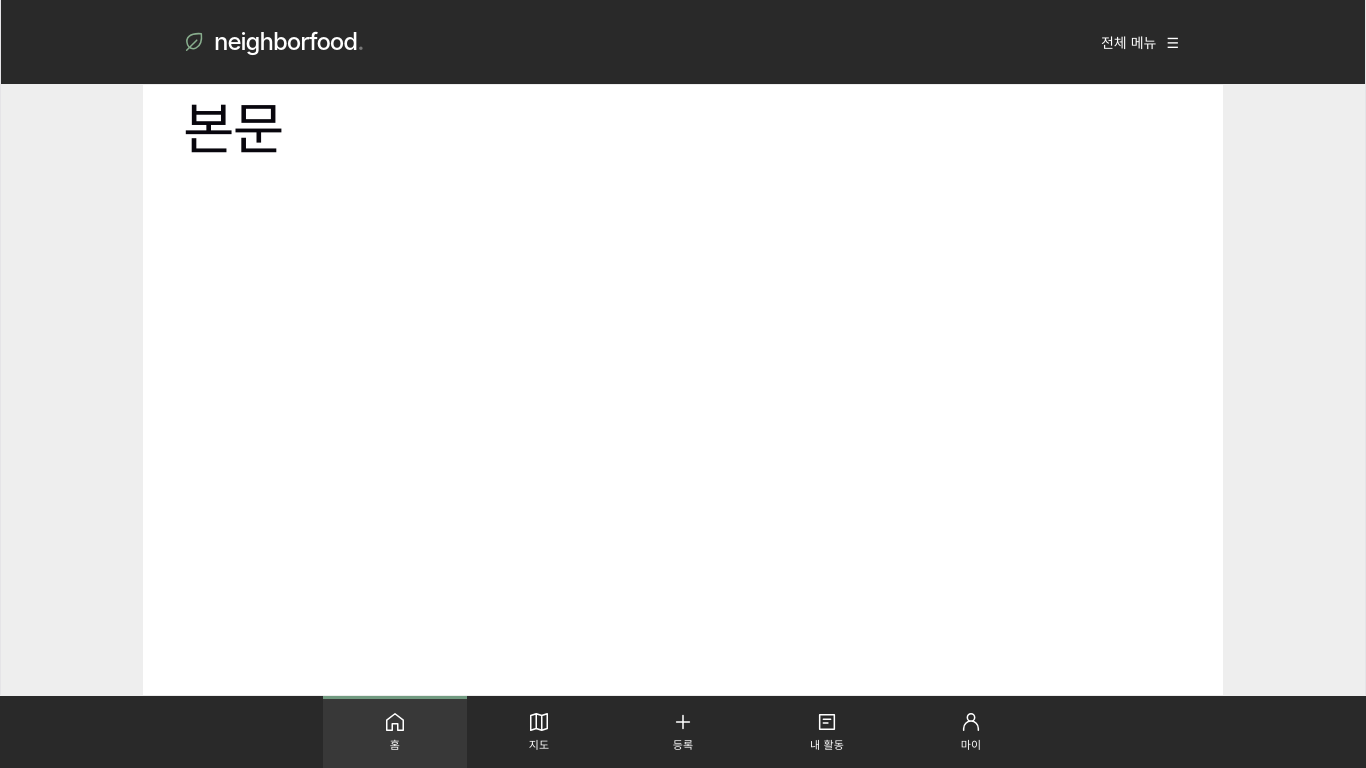
Test: 공통 메뉴 › 메뉴를 열고 포커스를 가둔 뒤 Escape로 닫고 원래 위치로 돌려준다
Step 1. Click the button with aria-label "전체 메뉴 열기" → (1140, 42), box [1097,20,1183,64]
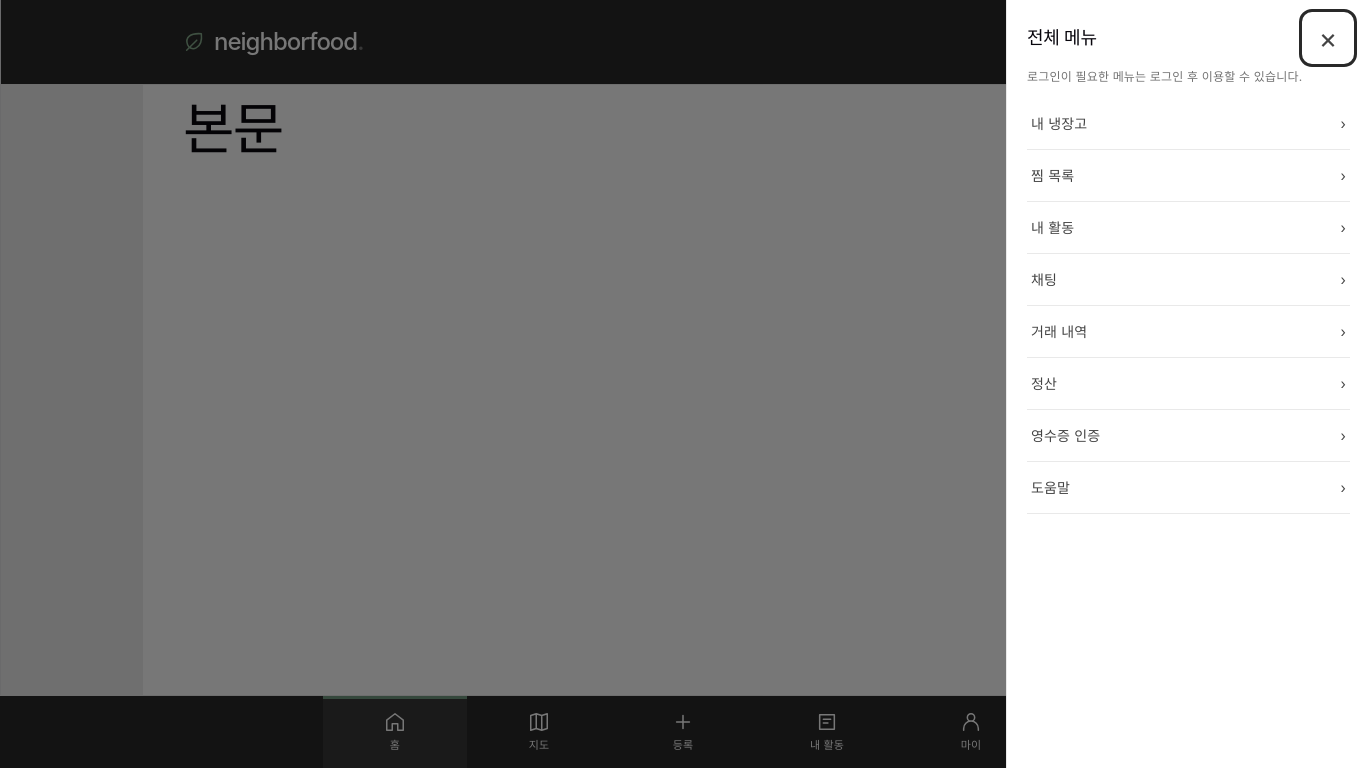
Expected: the button with aria-label "전체 메뉴 열기" is expanded, [1097,20,1183,64]
Step 2. Press Shift+Tab
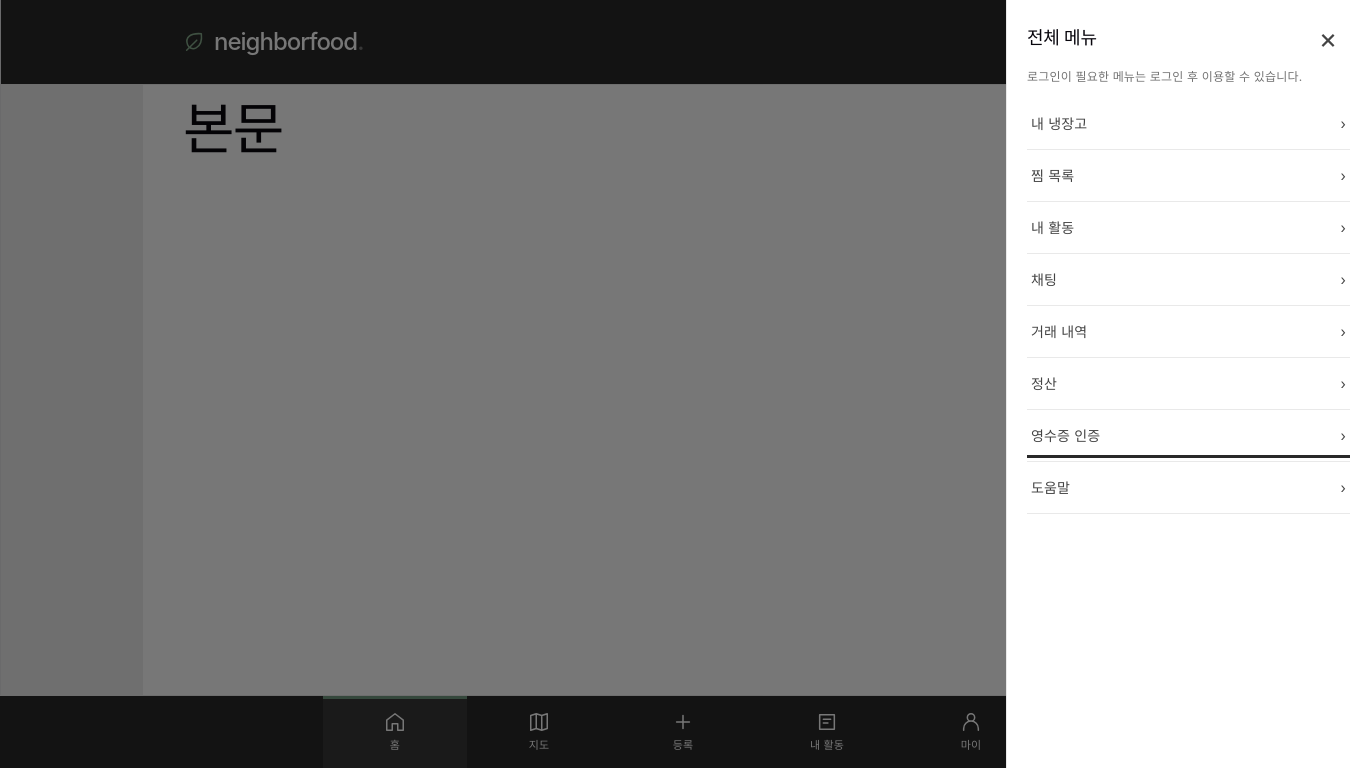
Step 3. Press Tab
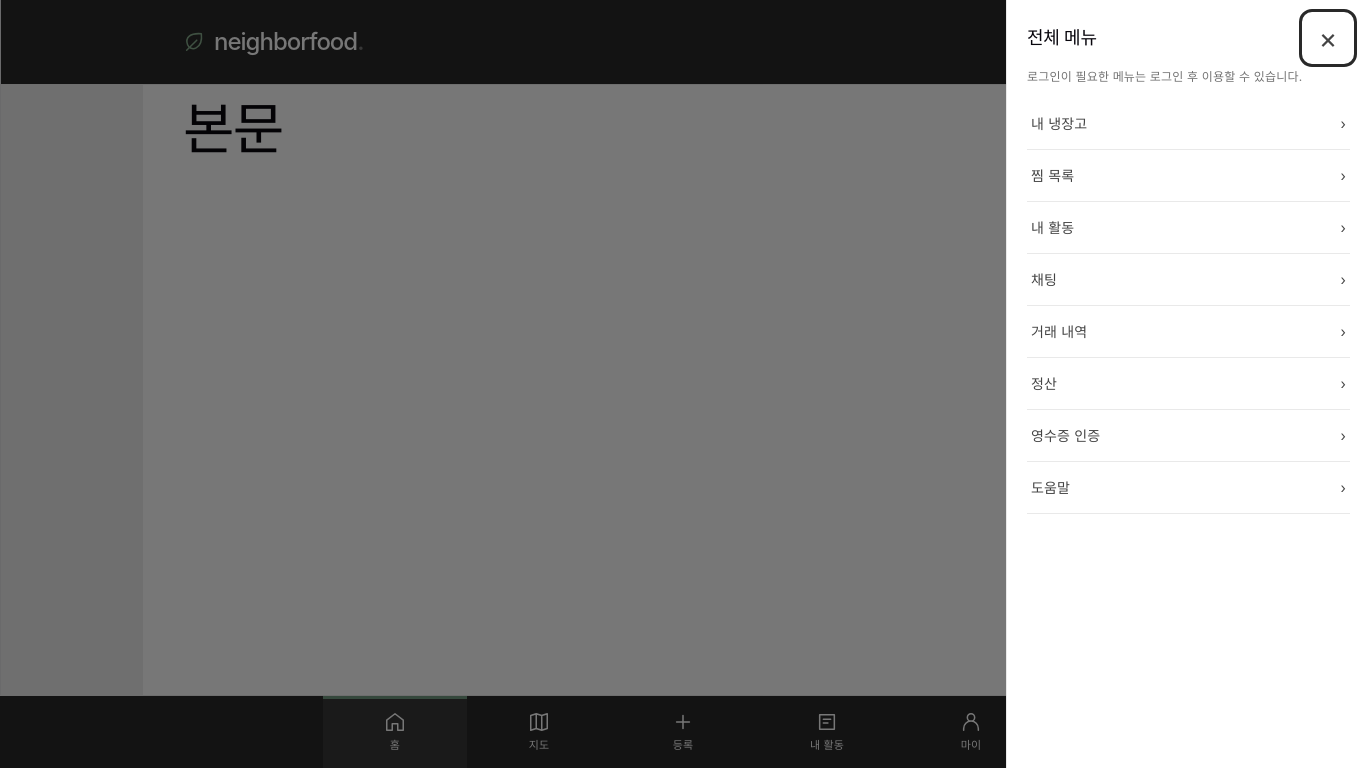
Step 4. Press Escape
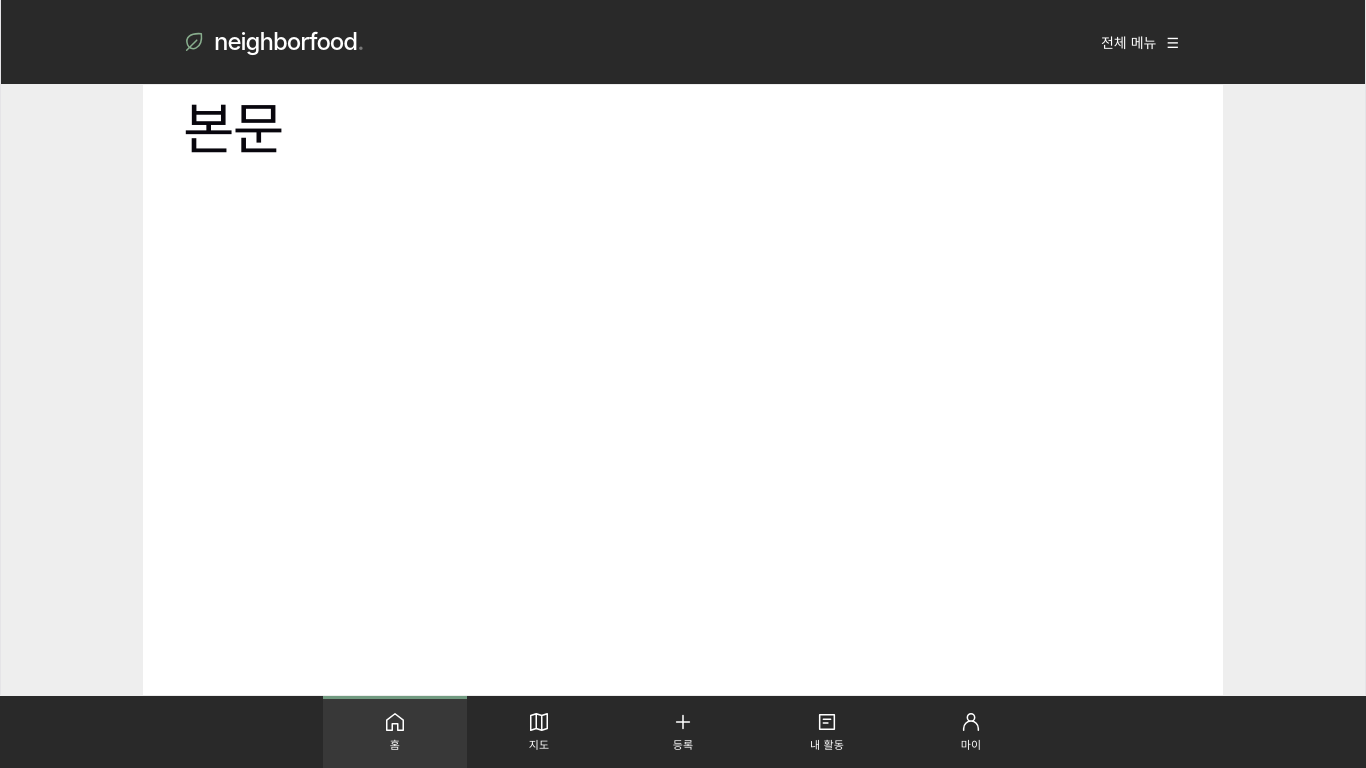
Expected: the dialog is gone
